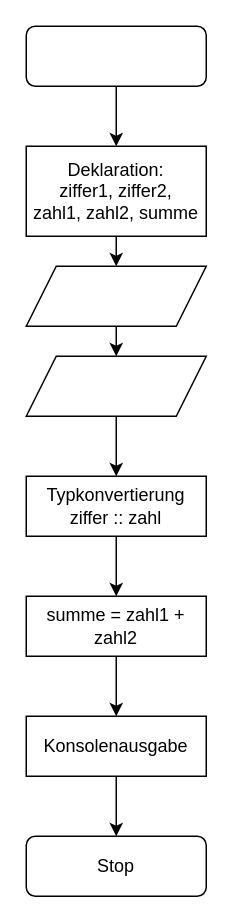
This 233x923 diagram has some shape labels left out. Each missing label, with the centre of its shape:
"prompt: ziffer1" goes at pixel 115 295.
"prompt: ziffer2" goes at pixel 115 385.
"Start" goes at pixel 115 55.
